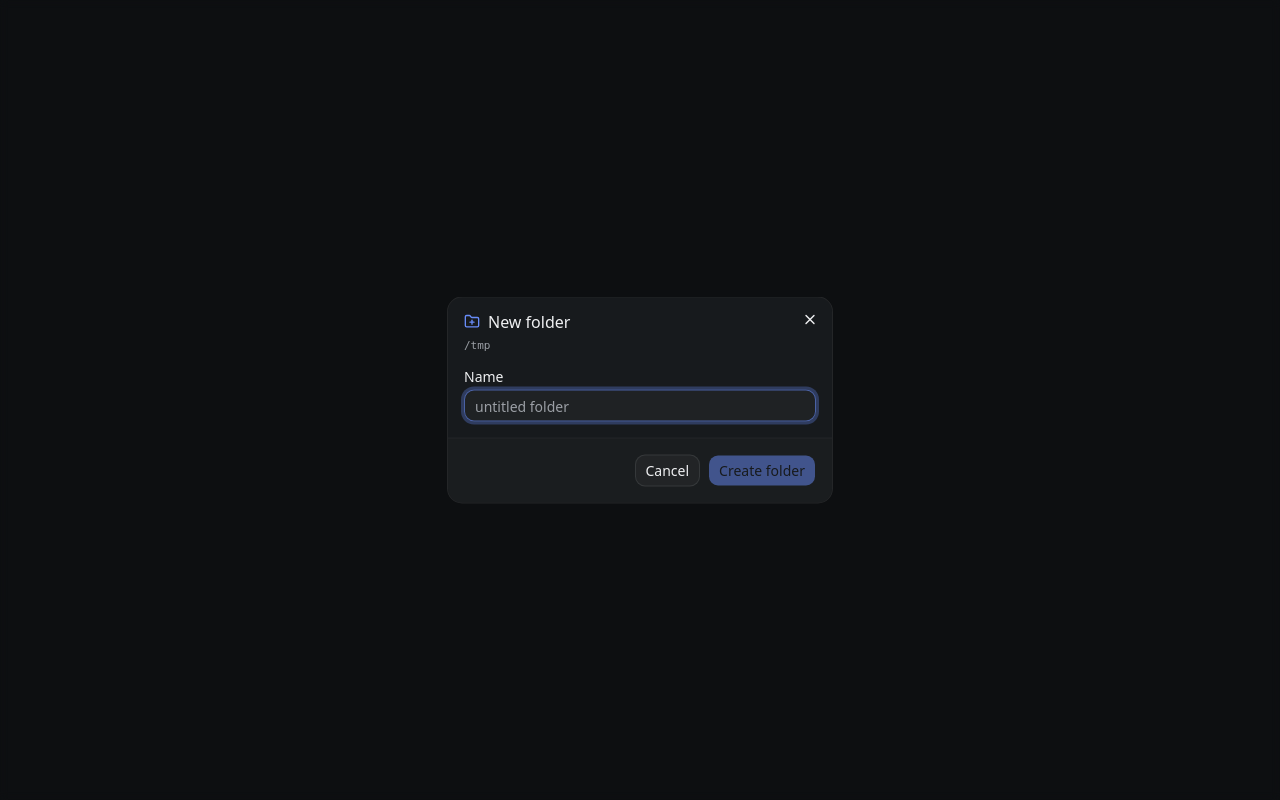
Scenario: NewFolderDialog › rejects an invalid name without calling the backend
In the field labelled "Name": (640, 406) [464,390,816,422], type "bad/name"
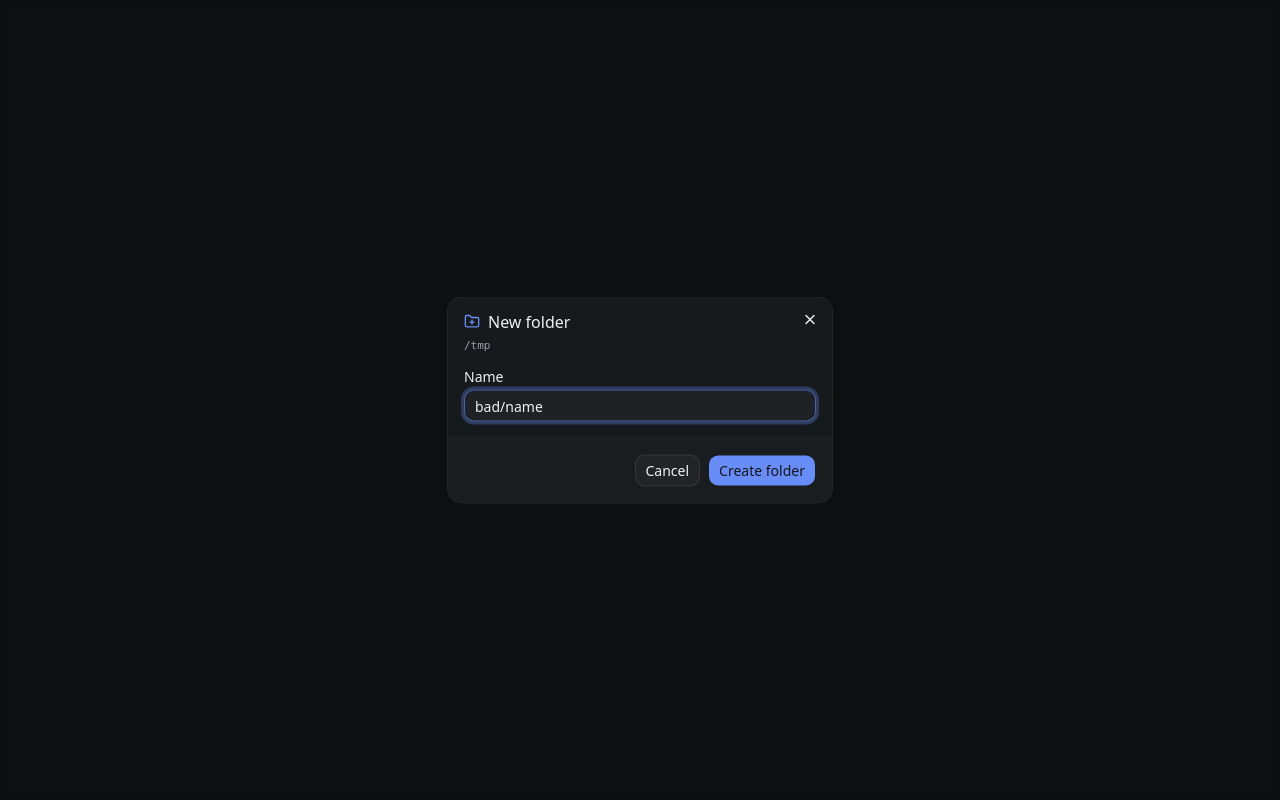
Click the button "Create folder": click(762, 470) [708,454,816,486]
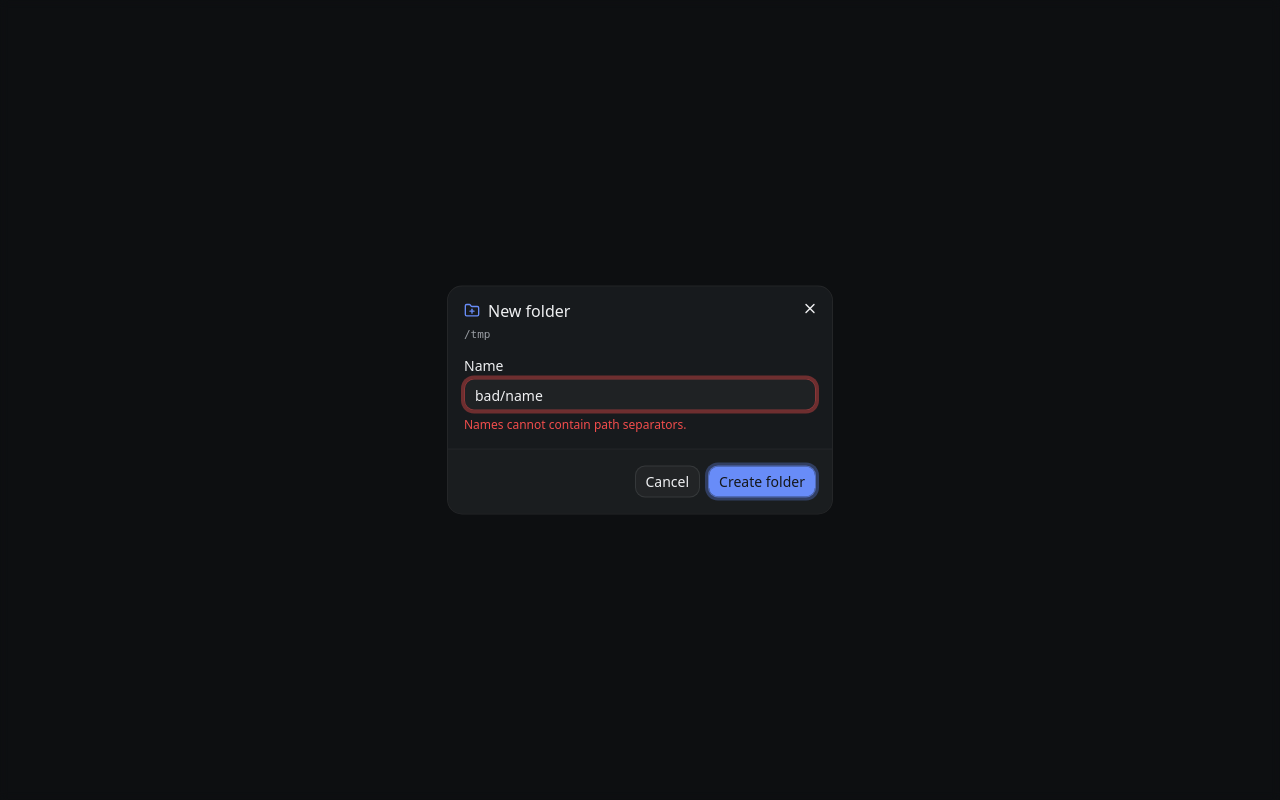
Now the message shows "cannot contain path separators", box [464,416,686,432]
